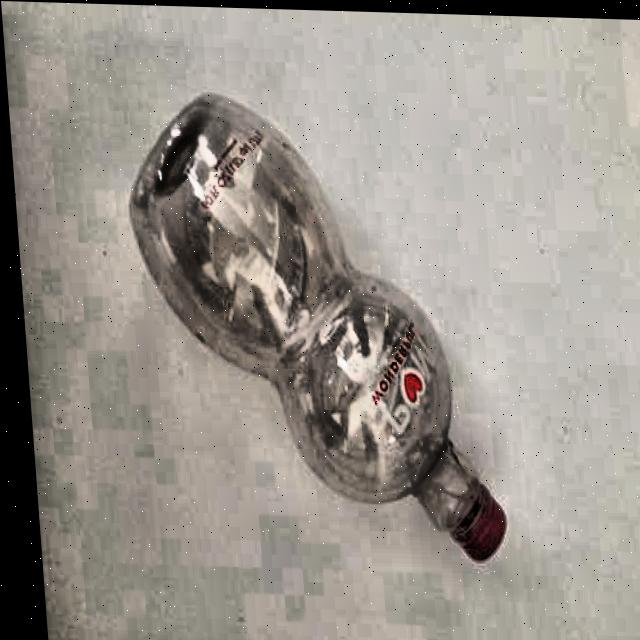plastic: (118, 89, 511, 563)
